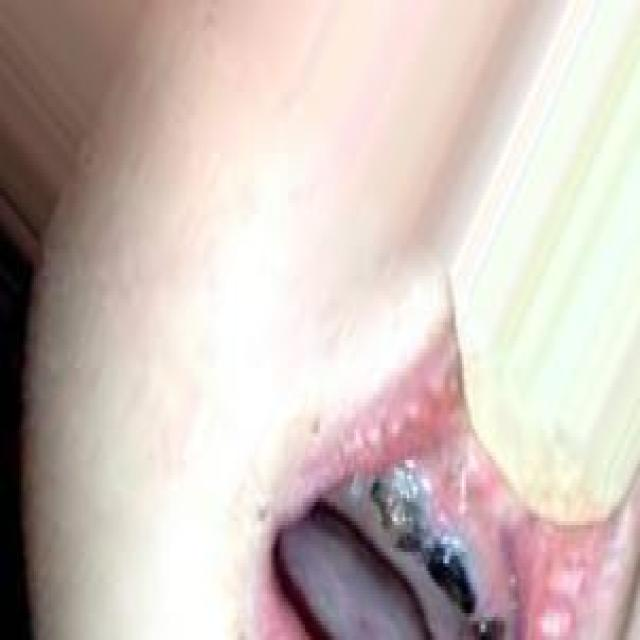caries: (367, 457, 433, 560), (419, 527, 480, 622)
